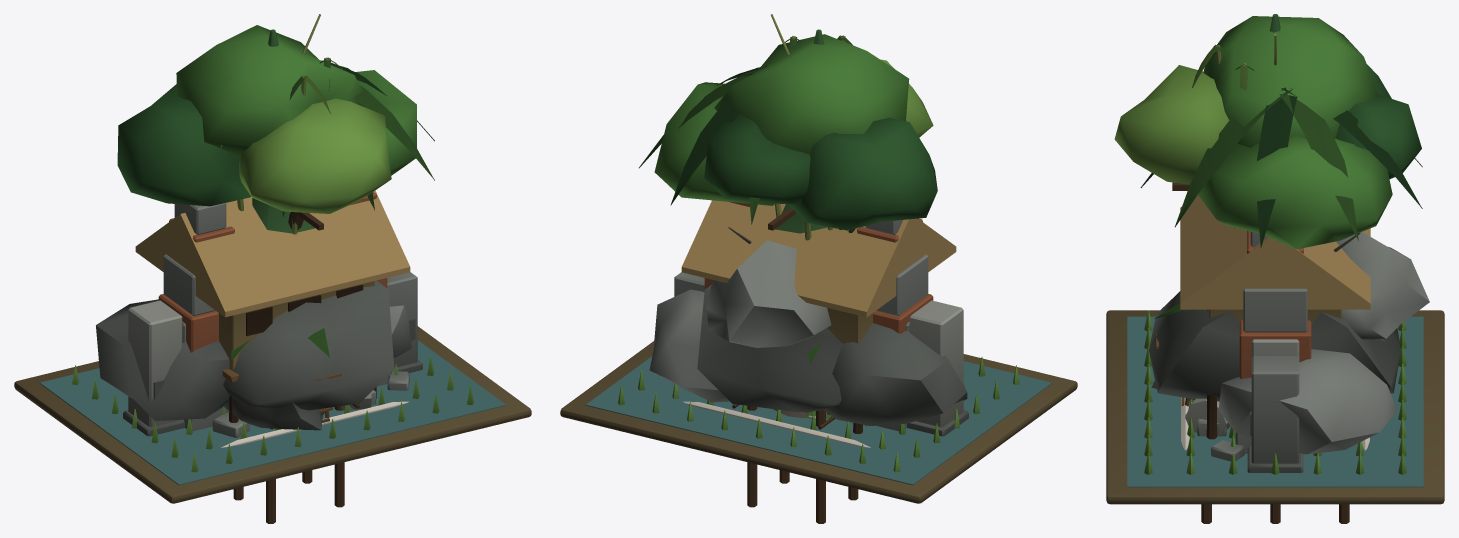
Rendered from environment.glb.
3 views of the same model, side by side, from view 1: azimuth 30°, elevation 25°; view 2: azimuth 150°, elevation 25°; view 3: azimuth 270°, elevation 25° (orthographic). The views are drawn at different scales.
Visible parts, largest first — view 1: tree_broad, sawah, cliff, hut, ruin_wall, gate_bentar, tree_palm, pier, tree_cemara, boat, bamboo; view 2: tree_broad, cliff, sawah, hut, ruin_wall, gate_bentar, tree_palm, pier, boat, tree_cemara; view 3: tree_broad, sawah, cliff, hut, tree_palm, ruin_wall, gate_bentar, ruin_pillar, pier, bamboo, boat.
Boxes of the visible parts, x1,y1,x2,y2 form: tree_broad: (117,25,416,229); sawah: (14,326,531,503); cliff: (96,280,411,430); hut: (135,190,410,422); ruin_wall: (123,272,422,437); gate_bentar: (158,192,391,431); tree_palm: (282,60,434,217); pier: (233,406,344,523); tree_cemara: (252,29,314,233); boat: (221,401,408,447); bamboo: (221,57,343,234); tree_broad: (654,34,937,230); cliff: (649,240,967,425); sawah: (560,341,1077,503); hut: (681,200,956,433); ruin_wall: (674,272,968,436); gate_bentar: (704,202,933,431); tree_palm: (639,65,767,224); pier: (747,405,858,523); boat: (683,401,870,447); tree_cemara: (775,29,827,233); tree_broad: (1114,16,1421,249); sawah: (1106,310,1444,504); cliff: (1149,232,1429,454); hut: (1156,182,1370,439); tree_palm: (1140,87,1422,248); ruin_wall: (1197,339,1303,472); gate_bentar: (1235,230,1313,453); ruin_pillar: (1185,398,1230,436); pier: (1201,504,1349,523); bamboo: (1192,45,1254,90); boat: (1181,397,1369,450).
Size of the model in its own units: 8.4 by 10.31 by 6.4.
